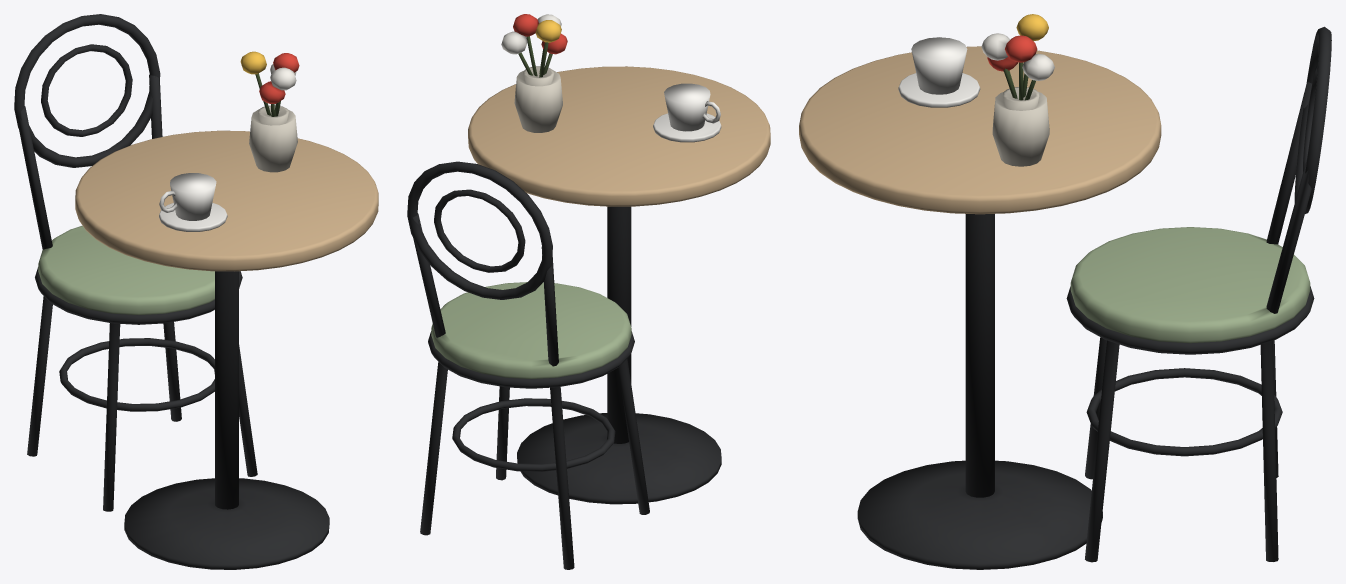
Rendered from bistroSet.glb.
The picture shows the model from 3 angles, left to right: view 1: azimuth 30°, elevation 25°; view 2: azimuth 150°, elevation 25°; view 3: azimuth 270°, elevation 25°; orthographic projection. The views are drawn at different scales.
Visible parts, largest first — view 1: bistroSet; view 2: bistroSet; view 3: bistroSet.
Part boxes in pixels (box(x1,y1,x2,y2)): bistroSet: box(14, 14, 378, 569); bistroSet: box(407, 14, 770, 569); bistroSet: box(799, 14, 1331, 569).
Size of the model in its own units: 0.62 by 1 by 0.9119.
